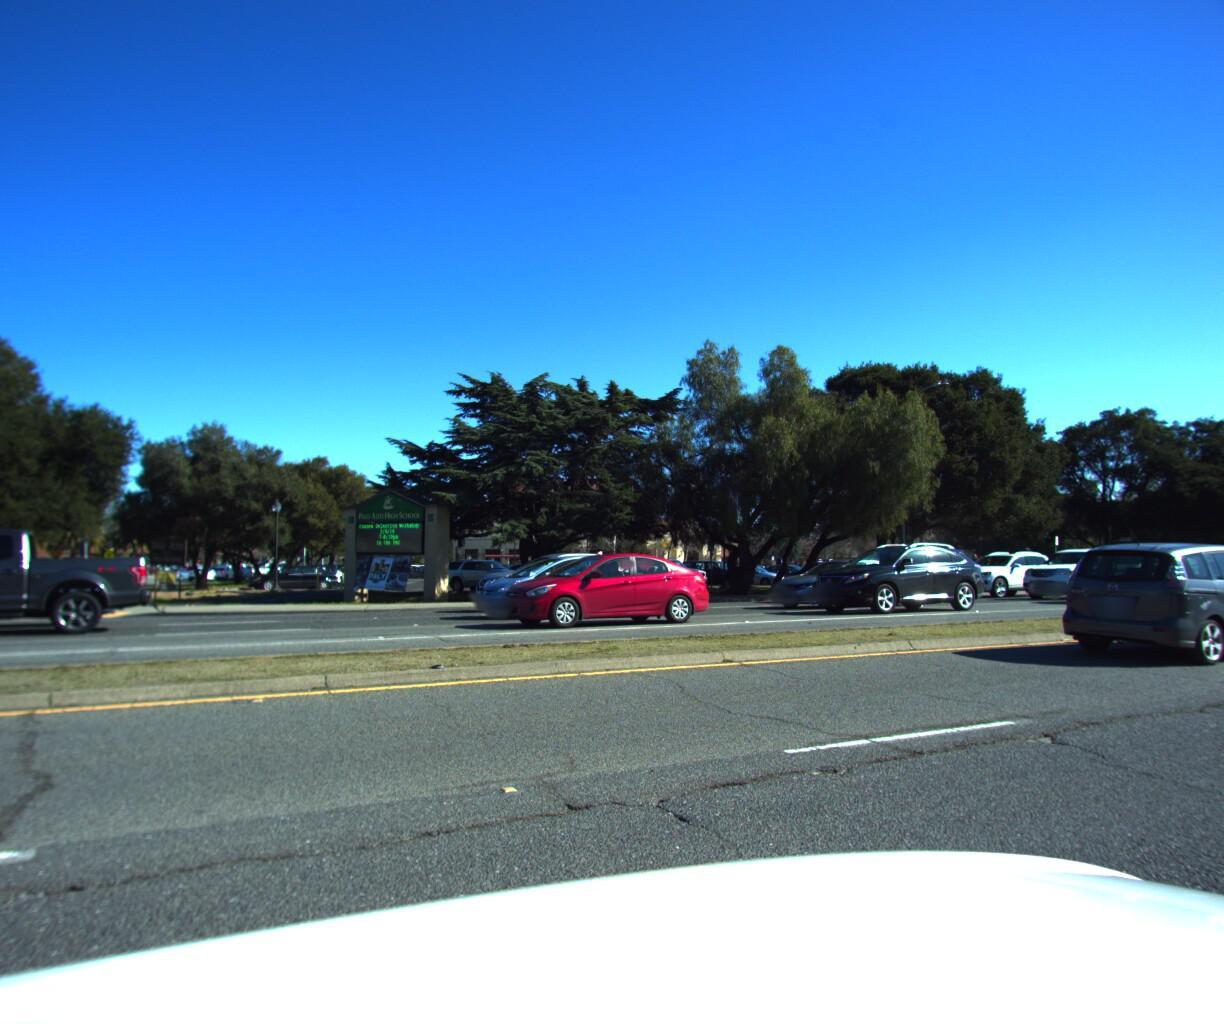car: (1032, 515, 1224, 668), (475, 544, 716, 630), (0, 526, 146, 650), (782, 533, 990, 613), (462, 545, 645, 621), (471, 548, 628, 610), (0, 542, 99, 639), (755, 546, 905, 608), (1014, 539, 1148, 596), (935, 542, 1068, 594), (1204, 550, 1224, 593)
